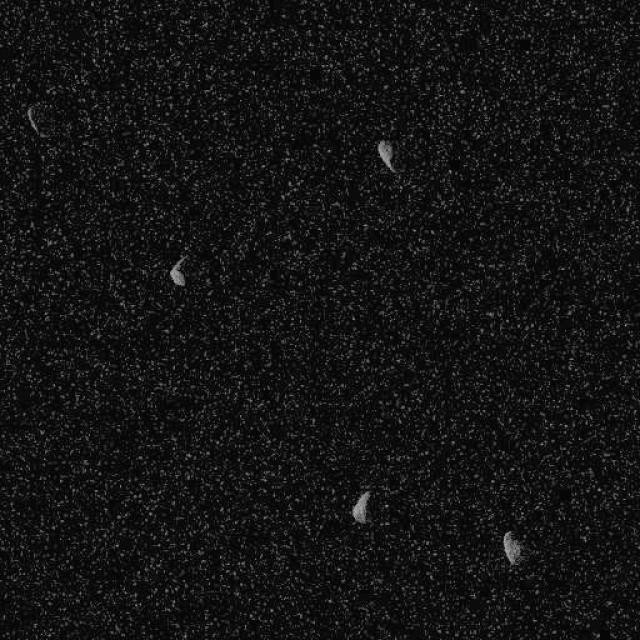D2: (501, 530, 524, 565), (377, 138, 398, 174), (350, 490, 371, 524), (168, 254, 188, 288), (25, 104, 41, 136)
